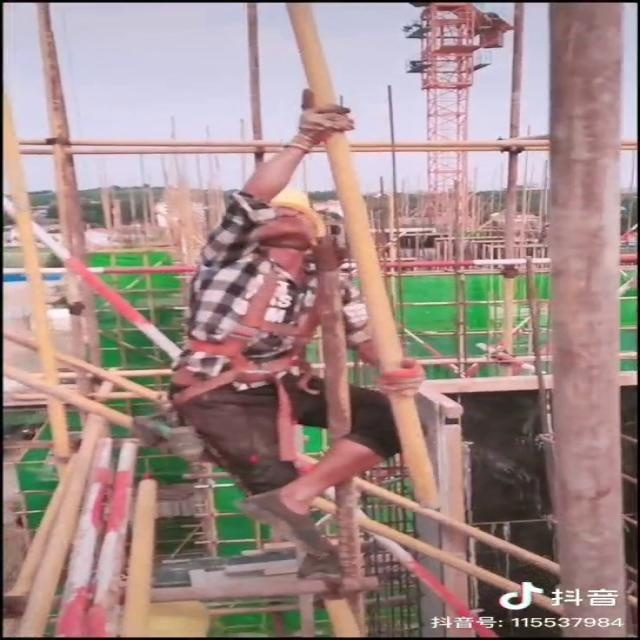Arnes_seguridad: (159, 249, 329, 406)
